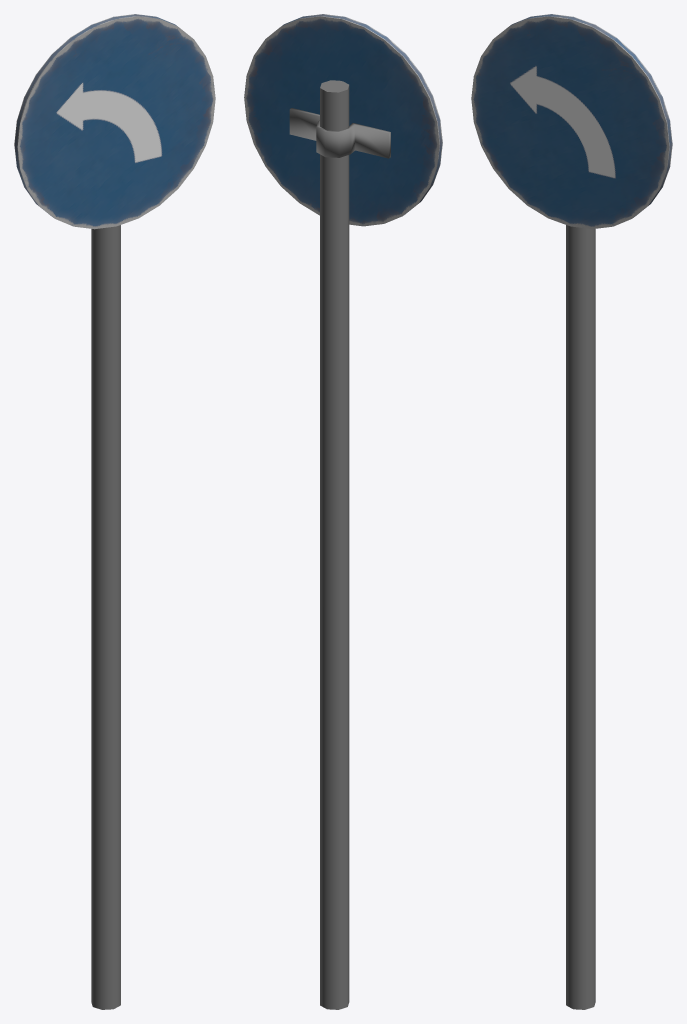
File: SM_sign_traffic_003.fbx
3 renders of one model, left to right at view 1: azimuth 30°, elevation 25°; view 2: azimuth 150°, elevation 25°; view 3: azimuth 330°, elevation 25°, orthographic.
Parts seen in each view (by area): view 1: Object32687; view 2: Object32687; view 3: Object32687.
Part boxes in pixels (x1,y1,x2,y2): Object32687: [14, 14, 215, 1009]; Object32687: [244, 14, 442, 1009]; Object32687: [471, 14, 672, 1009].
Size of the model in its own units: 23.53 by 113 by 4.16.
